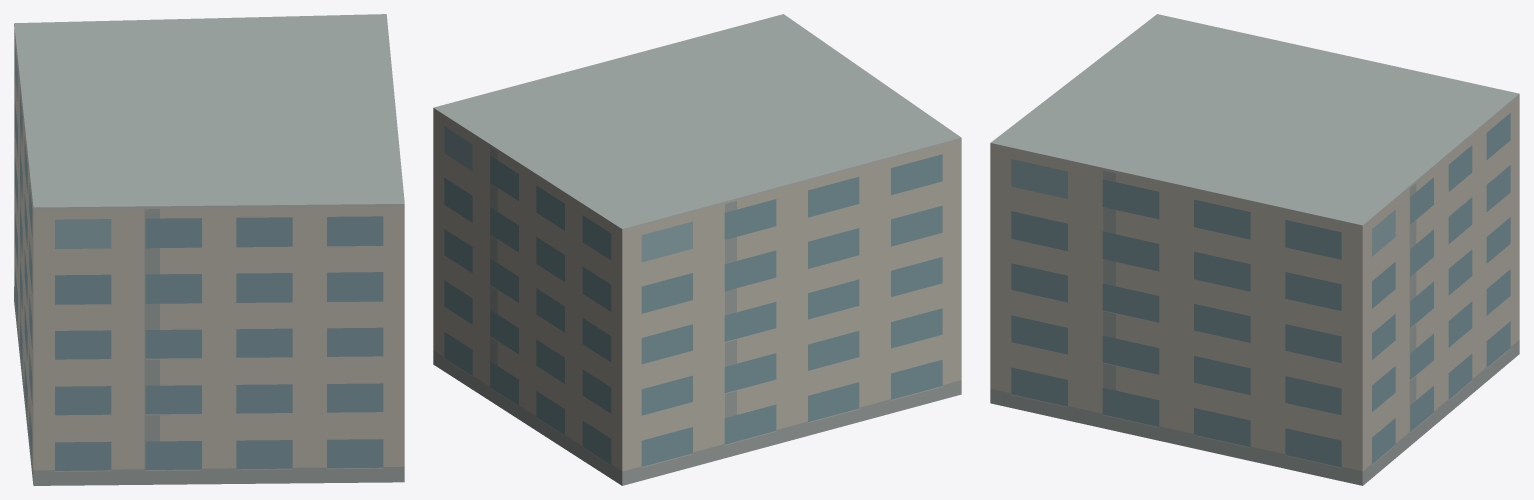
File: survey-upis-32850201.glb
The picture shows the model from 3 angles, left to right: view 1: azimuth 30°, elevation 25°; view 2: azimuth 150°, elevation 25°; view 3: azimuth 270°, elevation 25°; orthographic projection. The views are drawn at different scales.
Parts seen in each view (by area): view 1: survey-upis-32850201.tmp; view 2: survey-upis-32850201.tmp; view 3: survey-upis-32850201.tmp.
Boxes of the visible parts, x1,y1,x2,y2 form: survey-upis-32850201.tmp: (14,14,404,485); survey-upis-32850201.tmp: (433,14,961,485); survey-upis-32850201.tmp: (990,14,1519,485).
Size of the model in its own units: 42.14 by 24.2 by 44.56.
